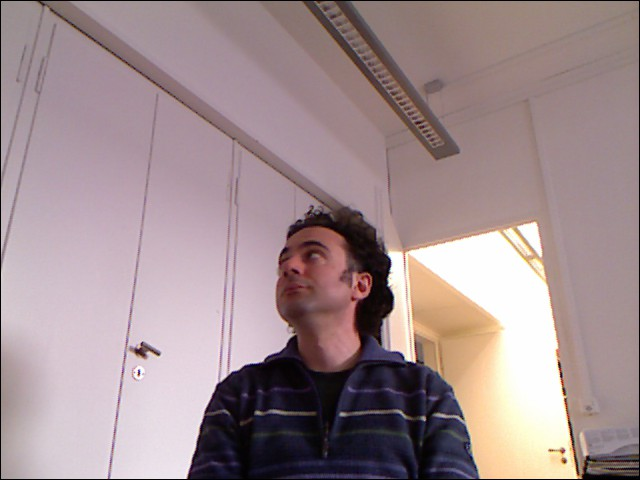deflection: (226, 211, 438, 480)
